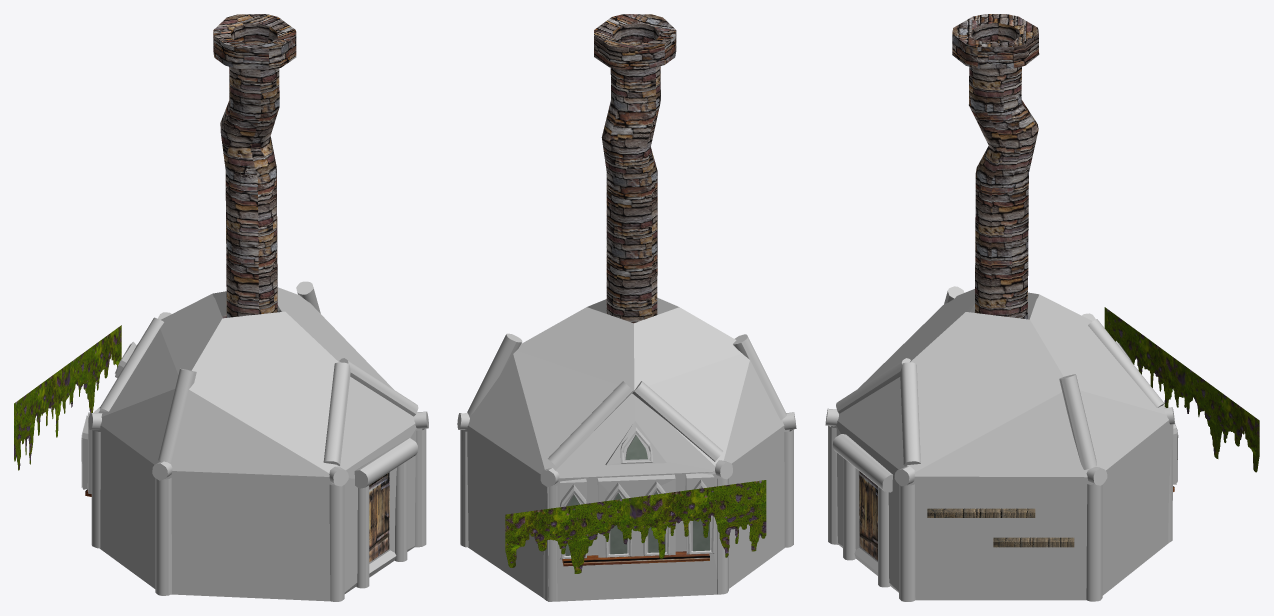
Rendered from room.fbx.
3 views of the same model, side by side, from view 1: azimuth 30°, elevation 25°; view 2: azimuth 150°, elevation 25°; view 3: azimuth 270°, elevation 25° (orthographic).
Visible parts, largest first — view 1: Plane, Circle.020, Plane.001, Plane.005, Plane.003; view 2: Plane, Plane.001, Plane.005, Circle.020, Plane.006, Cube; view 3: Plane, Plane.001, Circle.020, Plane.005, Plane.003, Cube.002, Cube.003.
Part boxes in pixels (x1=…): Plane: x1=81, y1=287, x2=422, y2=601; Circle.020: x1=88, y1=281, x2=428, y2=601; Plane.001: x1=213, y1=14, x2=296, y2=318; Plane.005: x1=14, y1=325, x2=121, y2=470; Plane.003: x1=369, y1=472, x2=389, y2=562; Plane: x1=462, y1=297, x2=788, y2=601; Plane.001: x1=594, y1=14, x2=676, y2=323; Plane.005: x1=505, y1=480, x2=766, y2=573; Circle.020: x1=457, y1=333, x2=796, y2=601; Plane.006: x1=565, y1=435, x2=709, y2=555; Cube: x1=562, y1=551, x2=709, y2=566; Plane: x1=831, y1=289, x2=1178, y2=600; Plane.001: x1=952, y1=14, x2=1039, y2=319; Circle.020: x1=825, y1=286, x2=1174, y2=601; Plane.005: x1=1104, y1=307, x2=1259, y2=472; Plane.003: x1=859, y1=471, x2=877, y2=560; Cube.002: x1=927, y1=508, x2=1035, y2=517; Cube.003: x1=993, y1=537, x2=1074, y2=547.
Size of the model in its own units: 5701 by 8740 by 6746.
